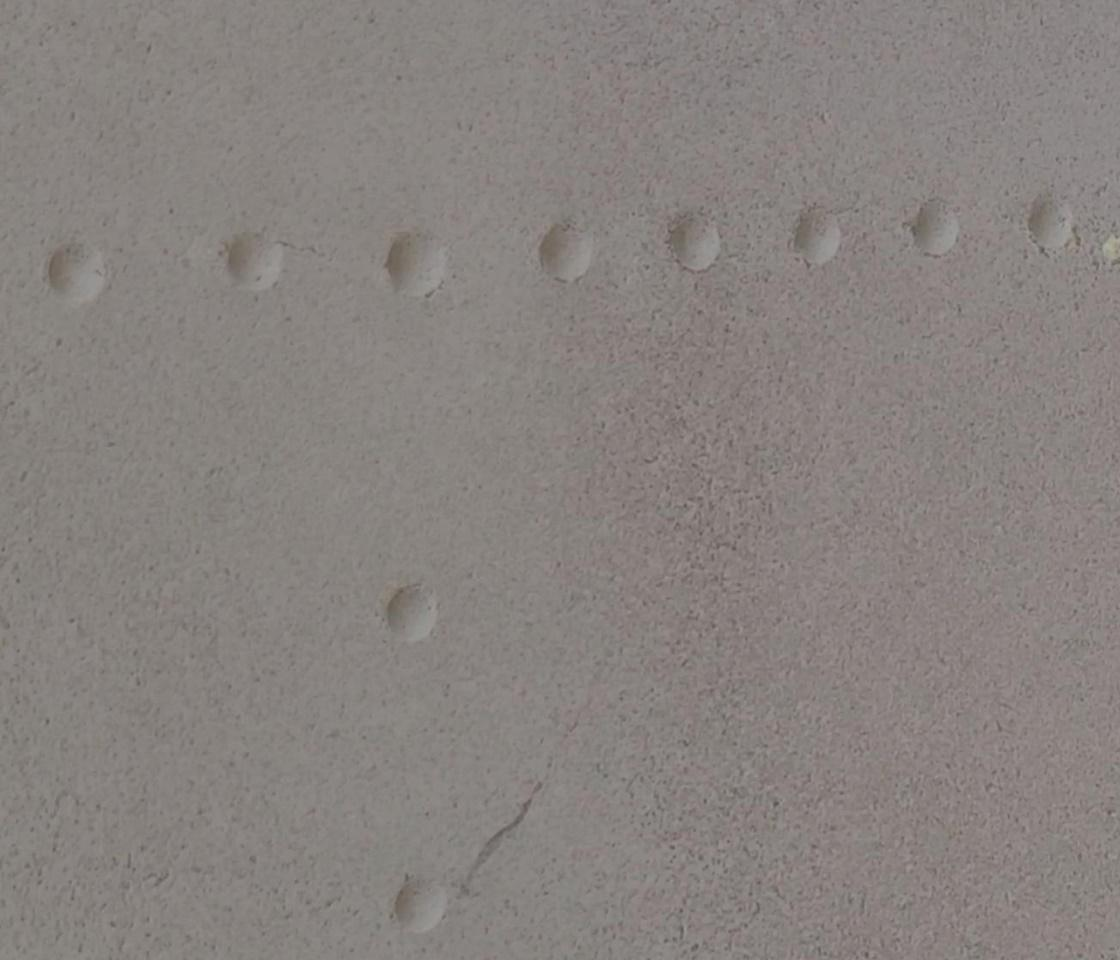scratch: (464, 777, 543, 882)
